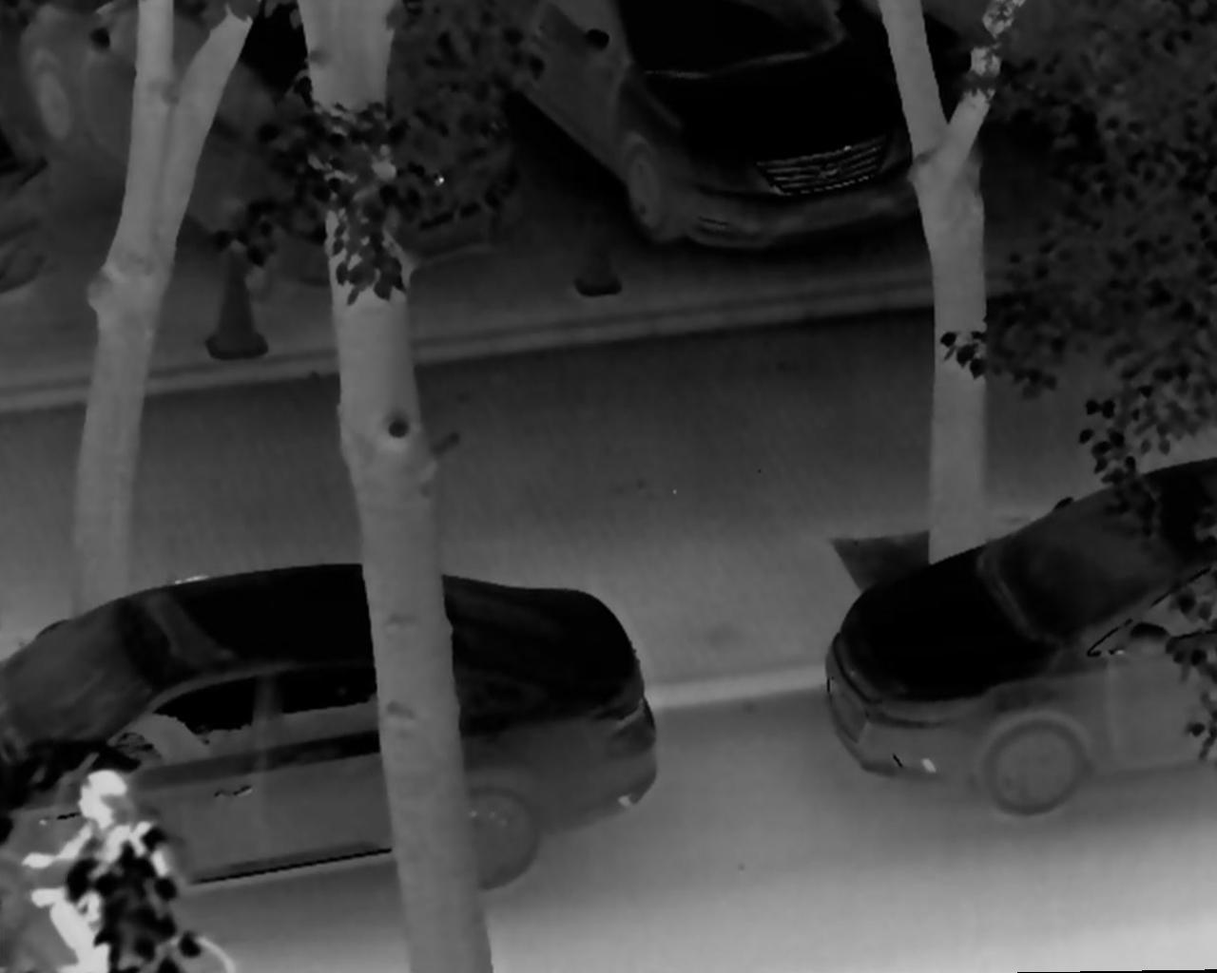person: (20, 762, 170, 973)
